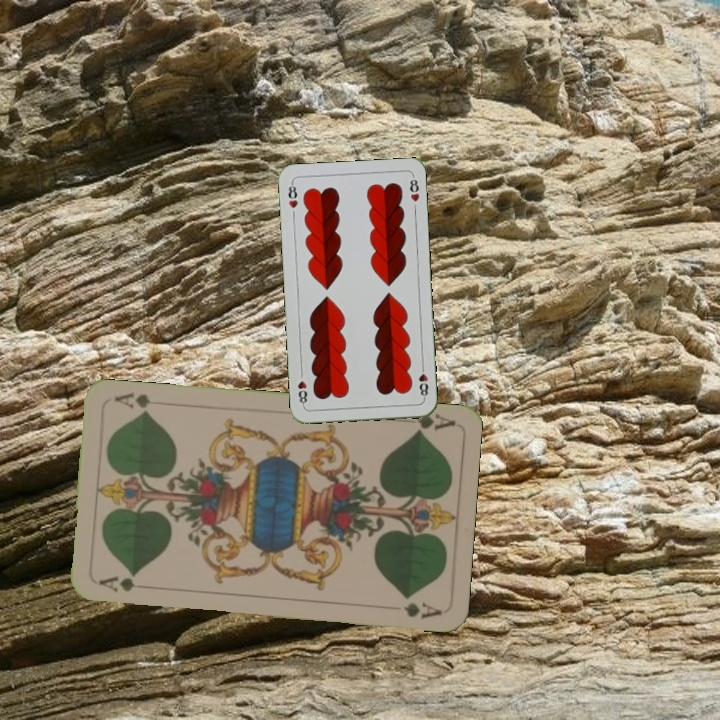GA: (94, 573, 153, 595), (411, 410, 456, 436)
H8: (415, 361, 431, 401), (284, 179, 300, 211)
